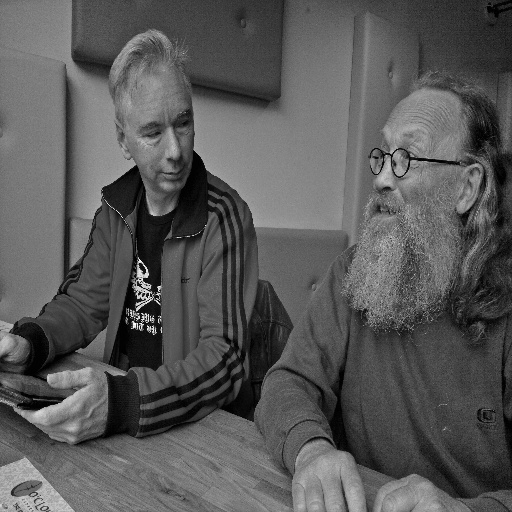hand: (22, 353, 125, 448), (291, 441, 367, 511), (371, 474, 463, 511), (0, 316, 33, 366)
